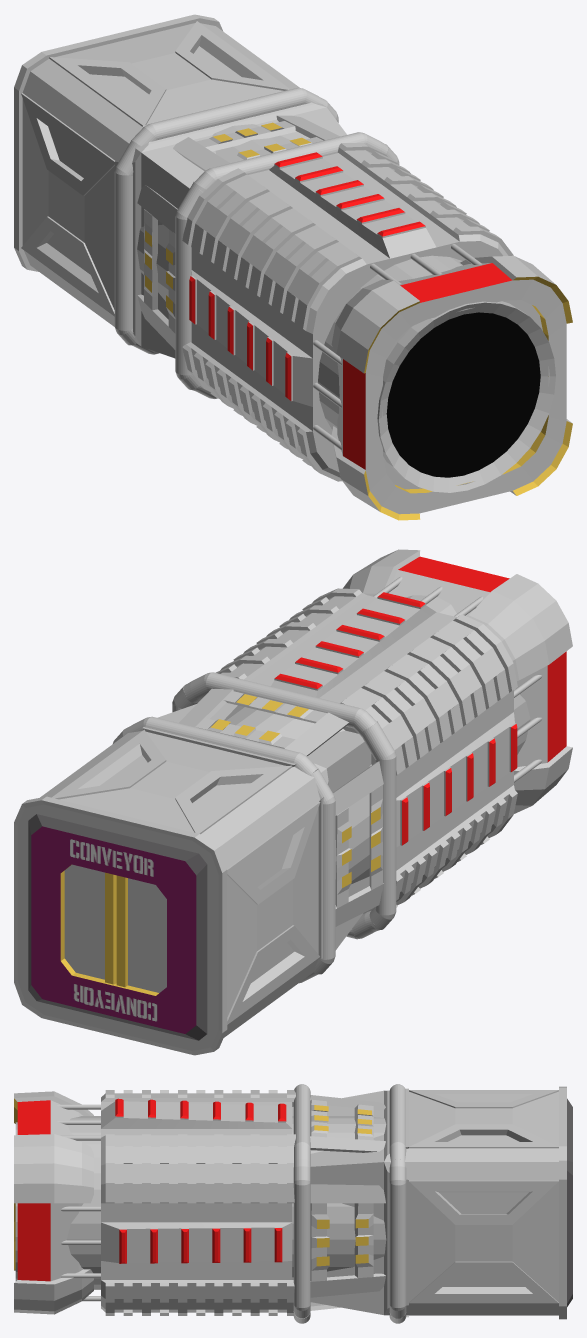
File: Souper_B3MP_Launcher.fbx
3 views of the same model, one above another, from view 1: azimuth 30°, elevation 25°; view 2: azimuth 150°, elevation 25°; view 3: azimuth 270°, elevation 25° (orthographic). The views are drawn at different scales.
Parts seen in each view (by area): view 1: Cube.073, Cube.072, Cylinder.056, Cube.074, Cylinder.075, Cylinder.066; view 2: Cube.072, Cube.073, Cube.075, Cube.074, Cylinder.075, Cylinder.056, Cylinder.066; view 3: Cube.073, Cube.072, Cube.074, Cylinder.075, Cylinder.056, Cylinder.066, Cube.075.
Boxes of the visible parts, x1,y1,x2,y2 form: Cube.073: (137, 115, 513, 481); Cube.072: (14, 14, 346, 358); Cylinder.056: (137, 124, 555, 492); Cube.074: (331, 255, 572, 520); Cylinder.075: (114, 87, 399, 398); Cylinder.066: (313, 244, 482, 450); Cube.072: (14, 702, 371, 1055); Cube.073: (179, 588, 517, 926); Cube.075: (28, 814, 207, 1040); Cube.074: (343, 549, 572, 813); Cylinder.075: (113, 672, 396, 983); Cylinder.056: (224, 595, 530, 884); Cylinder.066: (373, 576, 542, 782); Cube.073: (101, 1090, 385, 1315); Cube.072: (292, 1086, 566, 1319); Cube.074: (14, 1091, 93, 1314); Cylinder.075: (293, 1084, 406, 1323); Cylinder.056: (15, 1116, 386, 1289); Cylinder.066: (56, 1104, 100, 1301); Cube.075: (567, 1098, 572, 1306).
Bounding box in the file's own units: 2.87 × 2.87 × 7.63.
